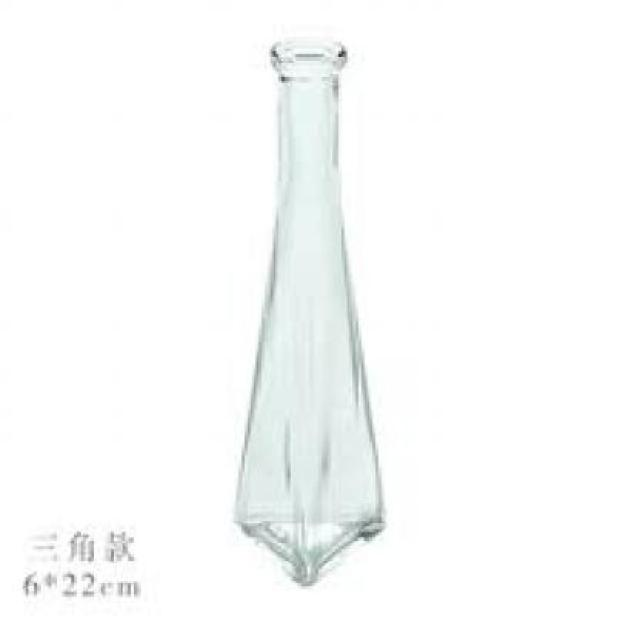kaca: (234, 37, 381, 580)
